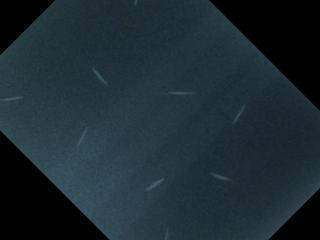scratch: (90, 66, 109, 87), (232, 103, 246, 125), (145, 177, 166, 191), (209, 172, 234, 183), (77, 126, 89, 148), (166, 90, 197, 96), (125, 161, 138, 175), (0, 95, 25, 102), (163, 227, 170, 240), (133, 0, 139, 6)
